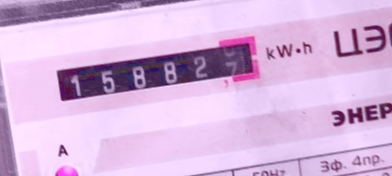1: (68, 71, 84, 99)
2: (191, 53, 210, 80)
5: (99, 67, 117, 95)
7: (223, 58, 240, 77)
8: (130, 63, 149, 90), (161, 58, 180, 85)
screen: (45, 29, 270, 116)
